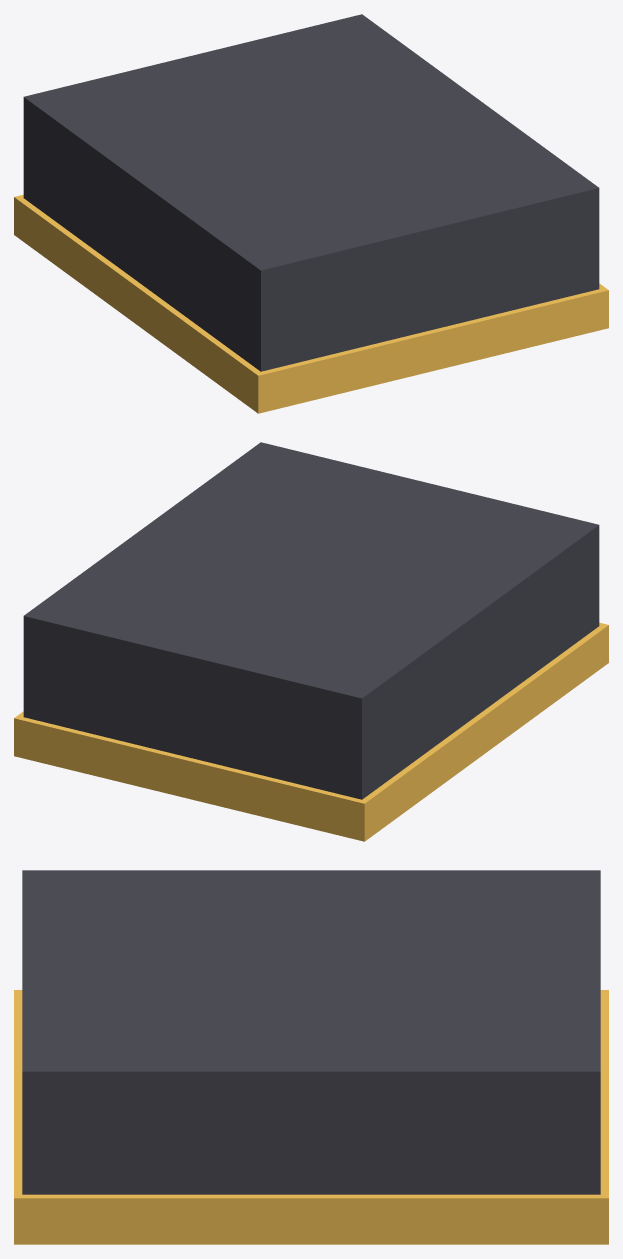
The model's file is esquiador_pe.glb.
3 views of the same model, one above another, from view 1: azimuth 30°, elevation 25°; view 2: azimuth 150°, elevation 25°; view 3: azimuth 270°, elevation 25° (orthographic). The views are drawn at different scales.
Visible parts, largest first — view 1: esquiador_pe; view 2: esquiador_pe; view 3: esquiador_pe.
Boxes of the visible parts, x1,y1,x2,y2 form: esquiador_pe: (14, 14, 608, 413); esquiador_pe: (14, 442, 608, 841); esquiador_pe: (14, 870, 608, 1244).
Size of the model in its own units: 0.29 by 0.11 by 0.35.
